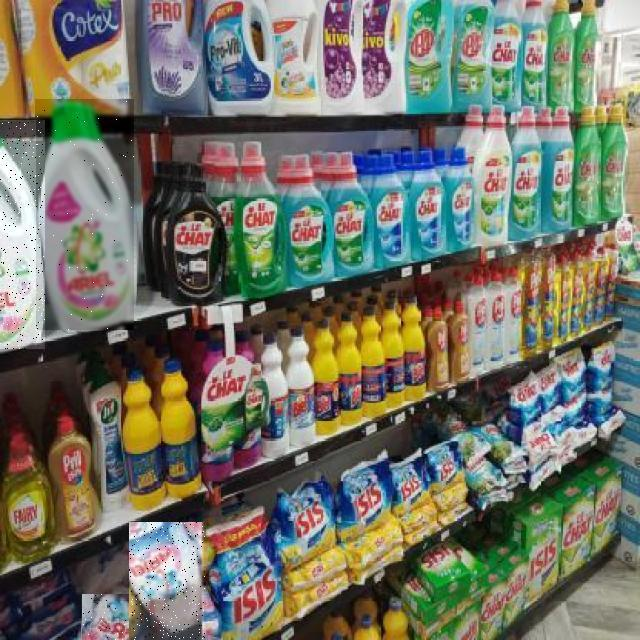Detergent: (36, 99, 136, 330), (0, 120, 45, 349), (130, 522, 206, 640), (82, 594, 146, 640)
